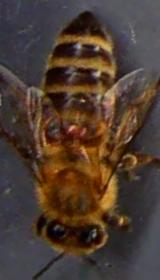varroa_mite: (61, 118, 88, 138)
